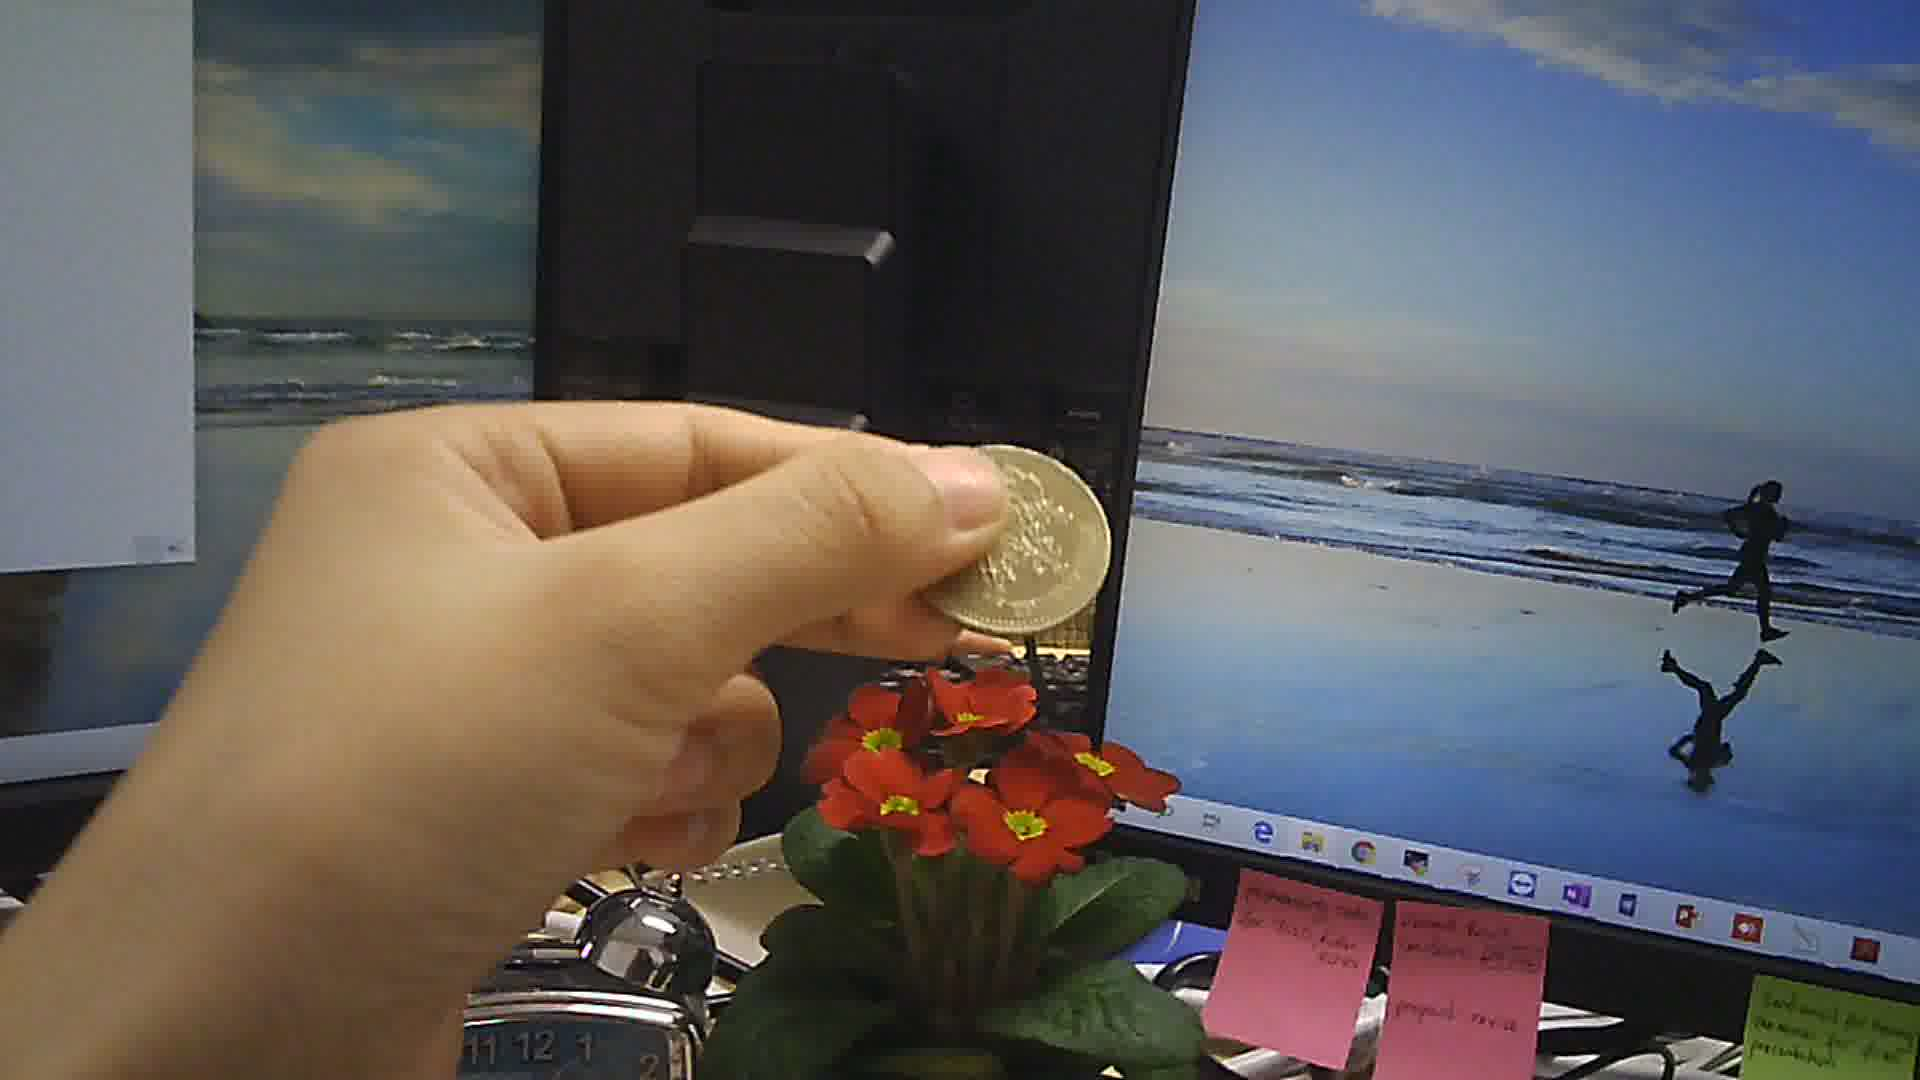500 Yen: (907, 436, 1120, 644)
